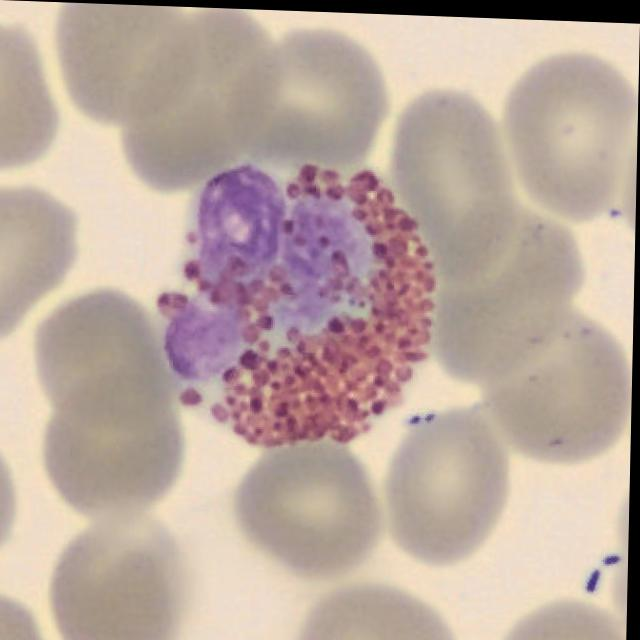Eosinofilo: (159, 158, 436, 442)
